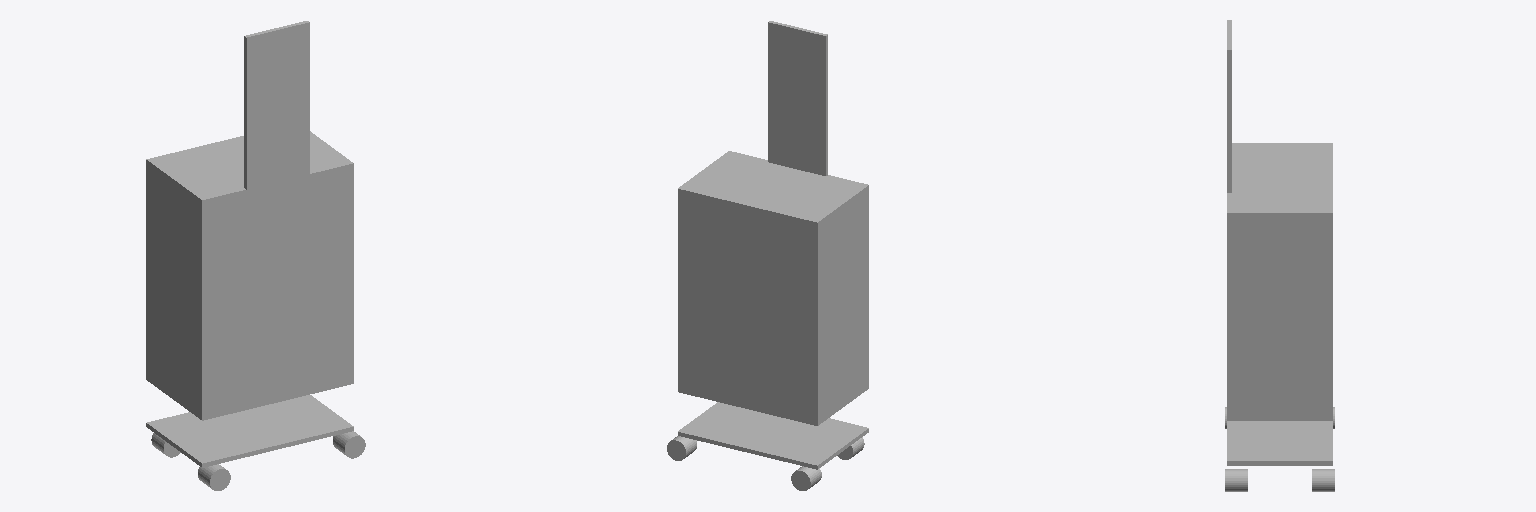
The robot description file, URDF, robot "Auto_Balancing_Case":
<?xml version="1.0" ?>
<robot name="Auto_Balancing_Case" xmlns:xacro="http://www.ros.org/wiki/xacro">

  <!-- simple inline material since xacro includes are removed -->
  <material name="silver">
    <color rgba="0.75 0.75 0.75 1.0"/>
  </material>

  
<link name="base_link">
  <inertial>
    <origin xyz="0.17999999999999997 0.115 0.005003006827026274" rpy="0 0 0"/>
    <mass value="0.9847218407587564"/>
    <inertia ixx="0.004346" iyy="0.010634" izz="0.014964" ixy="-0.0" iyz="0.0" ixz="-0.0"/>
  </inertial>
  <visual>
    <origin xyz="0.18 0.115 0.005" rpy="0 0 0"/>
    <geometry>
      <box size="0.36 0.23 0.01"/>
    </geometry>
    <material name="silver"/>
  </visual>
  <collision>
    <origin xyz="0.18 0.115 0.005" rpy="0 0 0"/>
    <geometry>
      <box size="0.36 0.23 0.01"/>
    </geometry>
  </collision>
</link>

<link name="handle">
  <inertial>
    <origin xyz="0.0 0.0 0.0" rpy="0 0 0"/>
    <mass value="0.0"/>
    <inertia ixx="0.0" iyy="0.0" izz="0.0" ixy="-0.0" iyz="0.0" ixz="-0.0"/>
  </inertial>
  <visual>
    <origin xyz="0.0 0.005 0.35" rpy="0 0 0"/>
    <geometry>
      <box size="0.15 0.01 0.35"/>
    </geometry>
    <material name="silver"/>
  </visual>
  <collision>
    <origin xyz="0.0 0.005 0.35" rpy="0 0 0"/>
    <geometry>
      <box size="0.15 0.01 0.35"/>
    </geometry>
  </collision>
</link>

<link name="FR_wheelbase_1">
  <inertial>
    <origin xyz="0.004854891037663869 0.0 -0.01224396424044122" rpy="0 0 0"/>
    <mass value="0.026348088954006088"/>
    <inertia ixx="5e-06" iyy="4e-06" izz="5e-06" ixy="-0.0" iyz="0.0" ixz="1e-06"/>
  </inertial>
</link>

<link name="RR_wheelbase_1">
  <inertial>
    <origin xyz="0.004821350892733667 -2.7755575615628914e-17 -0.012195503618703826" rpy="0 0 0"/>
    <mass value="0.02614973311170209"/>
    <inertia ixx="5e-06" iyy="4e-06" izz="5e-06" ixy="-0.0" iyz="0.0" ixz="1e-06"/>
  </inertial>
</link>

<link name="FL_wheelbase_1">
  <inertial>
    <origin xyz="0.0048548910376638756 -1.0408340855860843e-17 -0.012243964240441205" rpy="0 0 0"/>
    <mass value="0.02634808895400608"/>
    <inertia ixx="5e-06" iyy="4e-06" izz="5e-06" ixy="-0.0" iyz="-0.0" ixz="1e-06"/>
  </inertial>
</link>

<link name="RL_wheelbase_1">
  <inertial>
    <origin xyz="0.004821350892733667 -2.7755575615628914e-17 -0.012195503618703807" rpy="0 0 0"/>
    <mass value="0.02614973311170209"/>
    <inertia ixx="5e-06" iyy="4e-06" izz="5e-06" ixy="-0.0" iyz="-0.0" ixz="1e-06"/>
  </inertial>
</link>

<link name="FL_wheel_1">
  <inertial>
    <origin xyz="5.988265439071938e-15 -3.469446951953614e-18 1.3877787807814457e-17" rpy="0 0 0"/>
    <mass value="0.04246628391615553"/>
    <inertia ixx="2.4e-05" iyy="1.3e-05" izz="2.4e-05" ixy="-0.0" iyz="0.0" ixz="0.0"/>
  </inertial>
  <visual>
    <origin xyz="0 0 0" rpy="-1.5708 0 0"/>
    <geometry>
      <cylinder radius="0.025" length="0.05"/>
    </geometry>
    <material name="silver"/>
  </visual>
  <collision>
    <origin xyz="0 0 0" rpy="-1.5708 0 0"/>
    <geometry>
      <cylinder radius="0.025" length="0.05"/>
    </geometry>
  </collision>
</link>

<link name="RR_wheel_1">
  <inertial>
    <origin xyz="-1.3006670518400654e-07 0.0 -2.0816681711721685e-17" rpy="0 0 0"/>
    <mass value="0.042466283916155555"/>
    <inertia ixx="2.4e-05" iyy="1.3e-05" izz="2.4e-05" ixy="0.0" iyz="-0.0" ixz="0.0"/>
  </inertial>
  <visual>
    <origin xyz="0 0 0" rpy="-1.5708 0 0"/>
    <geometry>
      <cylinder radius="0.025" length="0.05"/>
    </geometry>
    <material name="silver"/>
  </visual>
  <collision>
    <origin xyz="0 0 0" rpy="-1.5708 0 0"/>
    <geometry>
      <cylinder radius="0.025" length="0.05"/>
    </geometry>
  </collision>
</link>

<link name="FR_wheel_1">
  <inertial>
    <origin xyz="6.0021432268797525e-15 0.0 1.3877787807814457e-17" rpy="0 0 0"/>
    <mass value="0.04246628391615553"/>
    <inertia ixx="2.4e-05" iyy="1.3e-05" izz="2.4e-05" ixy="0.0" iyz="0.0" ixz="0.0"/>
  </inertial>
  <visual>
    <origin xyz="0 0 0" rpy="-1.5708 0 0"/>
    <geometry>
      <cylinder radius="0.025" length="0.05"/>
    </geometry>
    <material name="silver"/>
  </visual>
  <collision>
    <origin xyz="0 0 0" rpy="-1.5708 0 0"/>
    <geometry>
      <cylinder radius="0.025" length="0.05"/>
    </geometry>
  </collision>
</link>

<link name="RL_wheel_1">
  <inertial>
    <origin xyz="-1.3006670512849539e-07 6.245004513516506e-17 0.0" rpy="0 0 0"/>
    <mass value="0.042466283916155555"/>
    <inertia ixx="2.4e-05" iyy="1.3e-05" izz="2.4e-05" ixy="-0.0" iyz="0.0" ixz="0.0"/>
  </inertial>
  <visual>
    <origin xyz="0 0 0" rpy="-1.5708 0 0"/>
    <geometry>
      <cylinder radius="0.025" length="0.05"/>
    </geometry>
    <material name="silver"/>
  </visual>
  <collision>
    <origin xyz="0 0 0" rpy="-1.5708 0 0"/>
    <geometry>
      <cylinder radius="0.025" length="0.05"/>
    </geometry>
  </collision>
</link>

<link name="luggage_case_1">
  <inertial>
    <origin xyz="1.0107192860431269e-12 0.1113836158375588 0.19099105534572558" rpy="0 0 0"/>
    <mass value="5.601340756429785"/>
    <inertia ixx="0.281154" iyy="0.307224" izz="0.120645" ixy="-0.0" iyz="0.010699" ixz="0.0"/>
  </inertial>
  <visual>
    <origin xyz="0.0 0.115 0.29688" rpy="0 0 0"/>
    <geometry>
      <box size="0.36 0.23 0.5"/>
    </geometry>
    <material name="silver"/>
  </visual>
  <collision>
    <origin xyz="0.0 0.115 0.29688" rpy="0 0 0"/>
    <geometry>
      <box size="0.36 0.23 0.5"/>
    </geometry>
  </collision>
</link>

<joint name="Revolute 1" type="continuous">
  <origin xyz="0.02 0.21 0.0001" rpy="0 0 0"/>
  <parent link="base_link"/>
  <child link="FR_wheelbase_1"/>
  <axis xyz="0.0 0.0 -1.0"/>
</joint>

<joint name="Revolute 2" type="continuous">
  <origin xyz="0.34 0.21 0.0001" rpy="0 0 0"/>
  <parent link="base_link"/>
  <child link="RR_wheelbase_1"/>
  <axis xyz="0.0 0.0 -1.0"/>
</joint>

<joint name="Revolute 3" type="continuous">
  <origin xyz="0.02 0.02 0.0001" rpy="0 0 0"/>
  <parent link="base_link"/>
  <child link="FL_wheelbase_1"/>
  <axis xyz="0.0 0.0 -1.0"/>
</joint>

<joint name="Revolute 4" type="continuous">
  <origin xyz="0.34 0.02 0.0001" rpy="0 0 0"/>
  <parent link="base_link"/>
  <child link="RL_wheelbase_1"/>
  <axis xyz="0.0 0.0 -1.0"/>
</joint>

<joint name="Revolute 5" type="continuous">
  <origin xyz="0.02 0.0 -0.035" rpy="0 0 0"/>
  <parent link="FL_wheelbase_1"/>
  <child link="FL_wheel_1"/>
  <axis xyz="0.0 1.0 0.0"/>
</joint>

<joint name="Revolute 6" type="continuous">
  <origin xyz="0.01992 0.0 -0.035" rpy="0 0 0"/>
  <parent link="RR_wheelbase_1"/>
  <child link="RR_wheel_1"/>
  <axis xyz="0.0 1.0 0.0"/>
</joint>

<joint name="Revolute 7" type="continuous">
  <origin xyz="0.02 0.0 -0.035" rpy="0 0 0"/>
  <parent link="FR_wheelbase_1"/>
  <child link="FR_wheel_1"/>
  <axis xyz="0.0 1.0 0.0"/>
</joint>

<joint name="Revolute 8" type="continuous">
  <origin xyz="0.01992 0.0 -0.035" rpy="0 0 0"/>
  <parent link="RL_wheelbase_1"/>
  <child link="RL_wheel_1"/>
  <axis xyz="0.0 1.0 0.0"/>
</joint>

  <joint name="Revolute_motor" type="revolute">
    <origin xyz="0.18 0.0 0.06" rpy="0 0 0"/>
    <parent link="base_link"/>
    <child link="luggage_case_1"/>
    <axis xyz="0.0 -1.0 0.0"/>
    <limit lower="-0.5236" upper="0.5236" effort="3.0" velocity="6.2832"/>
  </joint>

<joint name="Fixed_handle" type="fixed">
  <origin xyz="0.0 -0.0 0.366188" rpy="0 0 0"/>
  <parent link="luggage_case_1"/>
  <child link="handle"/>
  <axis xyz="0.0 0.0 0.0"/>
</joint>

</robot>

--- Facts derived from the render (not from the file) ---
The picture shows the robot from 3 angles, left to right: view 1: azimuth 30°, elevation 25°; view 2: azimuth 150°, elevation 25°; view 3: azimuth 270°, elevation 25°; orthographic projection.
Robot: Auto_Balancing_Case — 11 links, 10 joints (1 revolute, 8 continuous, 1 fixed); root link base_link; default pose: every joint at zero.
Visible links, largest first — view 1: luggage_case_1, handle, base_link, FL_wheel_1, RL_wheel_1; view 2: luggage_case_1, handle, base_link, FR_wheel_1, RR_wheel_1; view 3: luggage_case_1, base_link, handle, RR_wheel_1, RL_wheel_1.
Boxes of the visible links, left/top/right/bottom form: luggage_case_1: left=146, top=131, right=353, bottom=420; handle: left=244, top=21, right=309, bottom=190; base_link: left=146, top=395, right=353, bottom=467; FL_wheel_1: left=198, top=464, right=230, bottom=490; RL_wheel_1: left=333, top=431, right=365, bottom=458; luggage_case_1: left=678, top=151, right=868, bottom=425; handle: left=768, top=21, right=827, bottom=175; base_link: left=678, top=402, right=868, bottom=469; FR_wheel_1: left=791, top=466, right=821, bottom=490; RR_wheel_1: left=667, top=436, right=696, bottom=460; luggage_case_1: left=1227, top=143, right=1332, bottom=420; base_link: left=1227, top=421, right=1332, bottom=465; handle: left=1227, top=20, right=1231, bottom=192; RR_wheel_1: left=1312, top=469, right=1334, bottom=491; RL_wheel_1: left=1225, top=469, right=1247, bottom=491.
Size in the robot's own frame: 0.3849 by 0.24 by 1.01 metres.
Geometry: primitives only (box / cylinder / sphere), no mesh files.